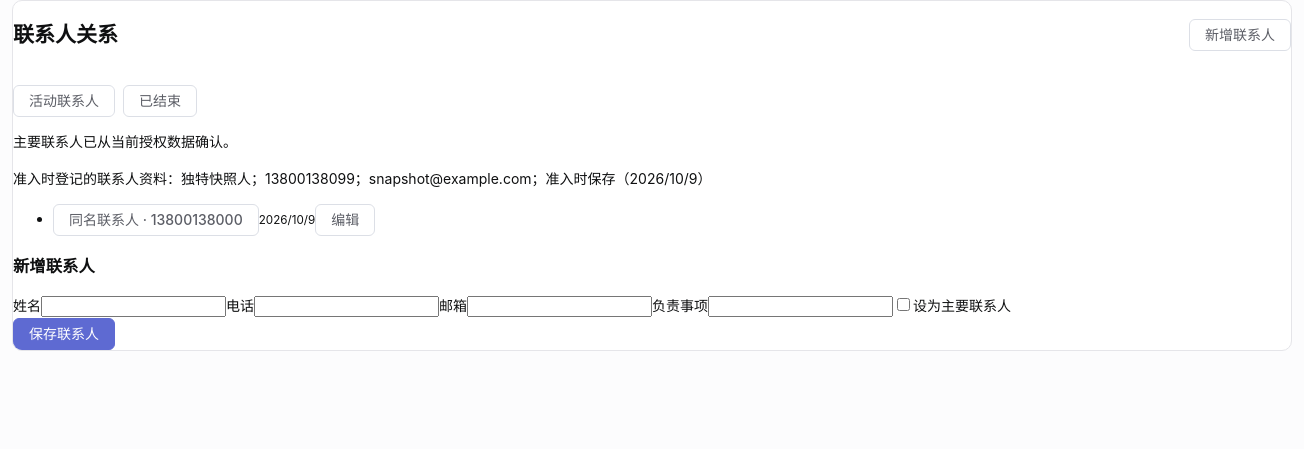
Test: CustomerContactsPanel › clears visible history and contacts after a 403 history failure
The width and height of the screenshot is (1304, 449).
Click the button "同名联系人 · 13800138000": [156, 220] box [53,204,259,236]
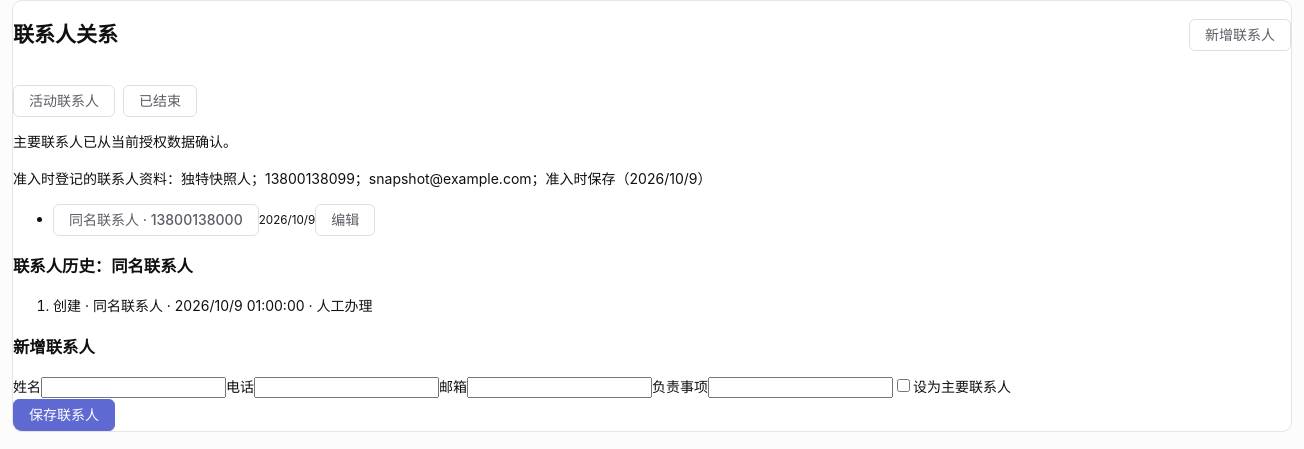
Expected: the text "同名联系人" is shown, [69,211,243,228]
Expected: the text "snapshot@example.com" is shown, [13,170,712,187]
Click the button "同名联系人 · 13800138000": [156, 220] box [53,204,259,236]
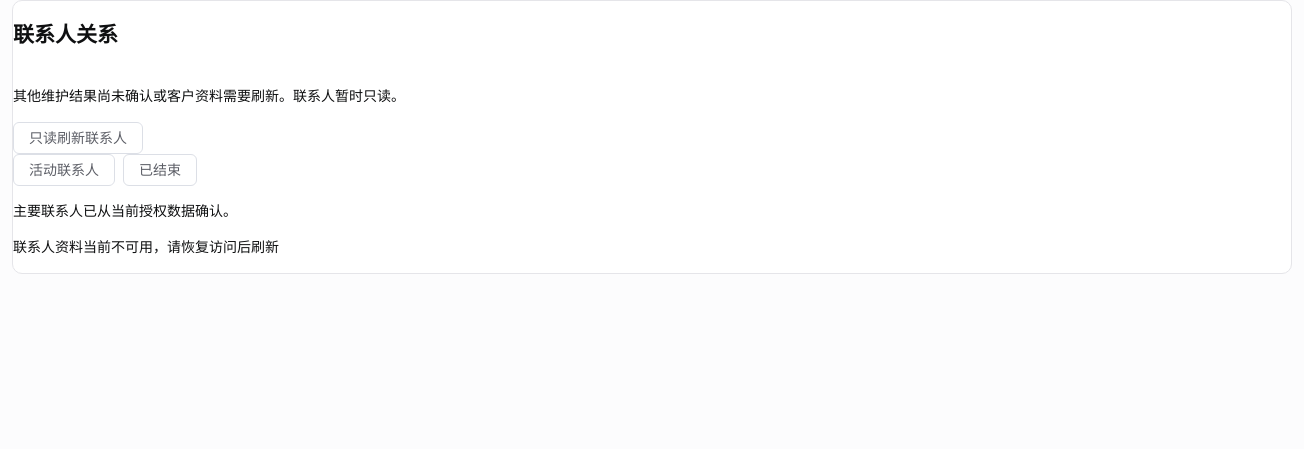
Expected: the text "13800138000" is gone
Expected: the text "snapshot@example.com" is gone
Expected: the text "联系人资料当前不可用" is shown, [13,238,279,255]
